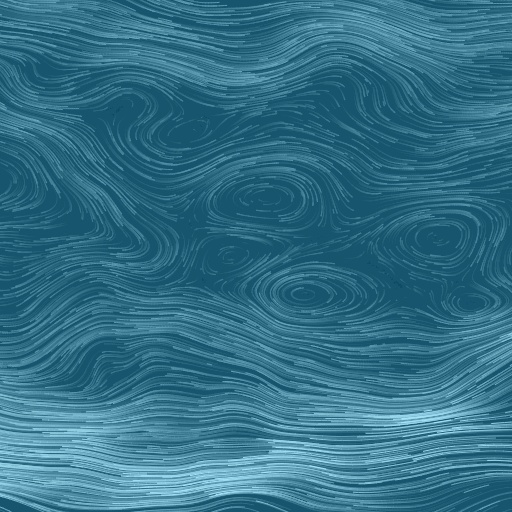eddy: (206, 163, 320, 228), (251, 261, 376, 320), (390, 206, 482, 273), (165, 111, 213, 150), (443, 286, 499, 319), (209, 240, 255, 269)
